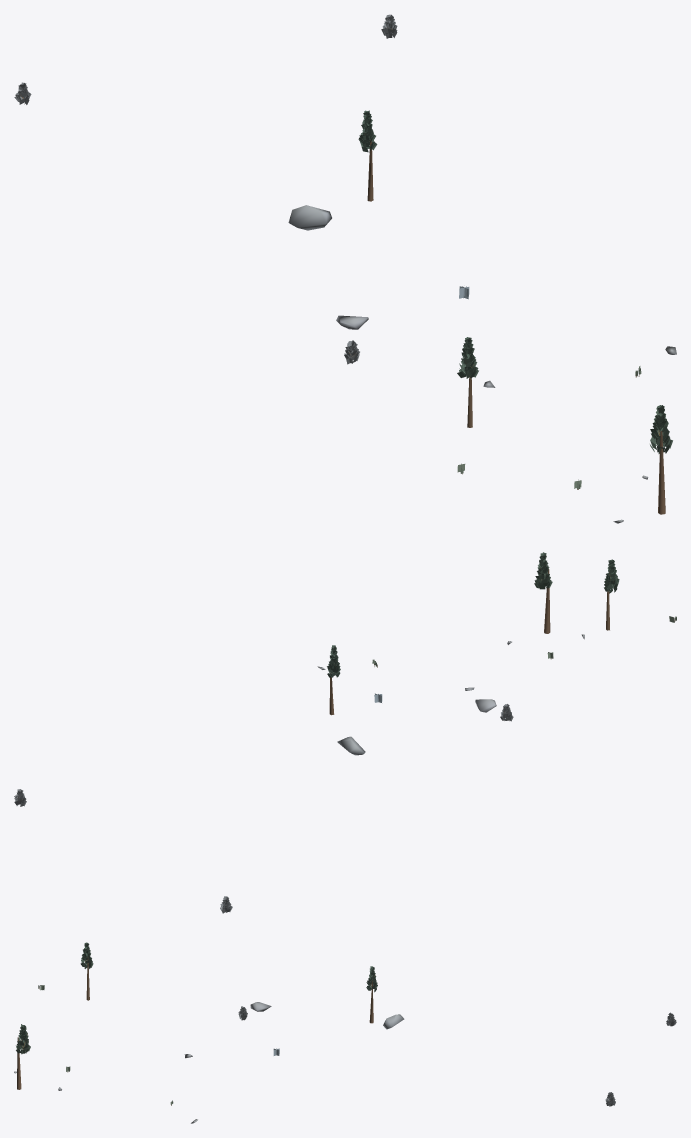
Rendered from frost_land_scatter_c15_13_lod1.glb.
3 views of the same model, one above another, from view 1: azimuth 30°, elevation 25°; view 2: azimuth 150°, elevation 25°; view 3: azimuth 270°, elevation 25° (orthographic). The views are drawn at different scales.
Parts seen in each view (by area): view 1: frost_land_scatter_c15_13_lod1; view 2: frost_land_scatter_c15_13_lod1; view 3: frost_land_scatter_c15_13_lod1.
Part boxes in pixels (x1=…): frost_land_scatter_c15_13_lod1: x1=14, y1=14, x2=676, y2=523; frost_land_scatter_c15_13_lod1: x1=14, y1=552, x2=676, y2=913; frost_land_scatter_c15_13_lod1: x1=14, y1=942, x2=676, y2=1123.
Bounding box in the file's own units: 44.71 × 20.76 × 104.
